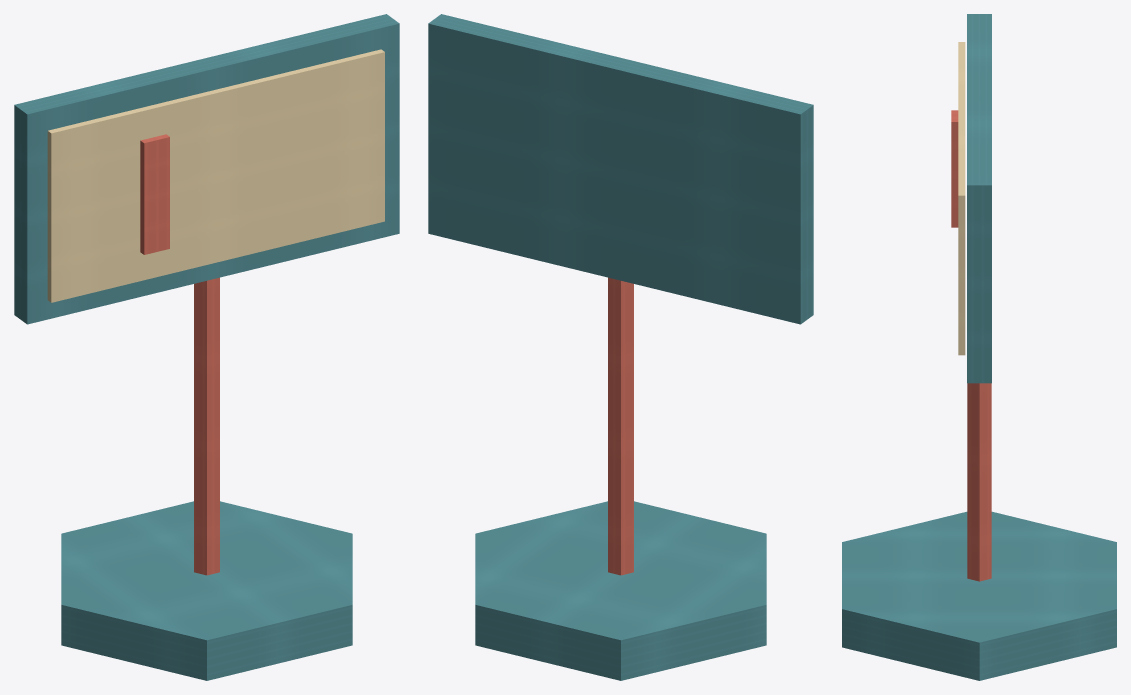
File: atlas100-s071-a11.lod2.glb
3 views of the same model, side by side, from view 1: azimuth 30°, elevation 25°; view 2: azimuth 150°, elevation 25°; view 3: azimuth 270°, elevation 25° (orthographic). The views are drawn at different scales.
Visible parts, largest first — view 1: atlas100-s071-a11:part-003, atlas100-s071-a11:part-000, atlas100-s071-a11:part-002, atlas100-s071-a11:part-001, atlas100-s071-a11:part-004; view 2: atlas100-s071-a11:part-002, atlas100-s071-a11:part-000, atlas100-s071-a11:part-001; view 3: atlas100-s071-a11:part-000, atlas100-s071-a11:part-002, atlas100-s071-a11:part-001, atlas100-s071-a11:part-003, atlas100-s071-a11:part-004.
Part boxes in pixels (x1=…): atlas100-s071-a11:part-003: x1=47, y1=49, x2=384, y2=302; atlas100-s071-a11:part-000: x1=61, y1=501, x2=352, y2=680; atlas100-s071-a11:part-002: x1=14, y1=14, x2=399, y2=324; atlas100-s071-a11:part-001: x1=194, y1=277, x2=219, y2=575; atlas100-s071-a11:part-004: x1=140, y1=134, x2=169, y2=254; atlas100-s071-a11:part-002: x1=428, y1=14, x2=813, y2=324; atlas100-s071-a11:part-000: x1=475, y1=501, x2=766, y2=680; atlas100-s071-a11:part-001: x1=608, y1=277, x2=633, y2=575; atlas100-s071-a11:part-000: x1=842, y1=511, x2=1116, y2=680; atlas100-s071-a11:part-002: x1=967, y1=14, x2=991, y2=383; atlas100-s071-a11:part-001: x1=967, y1=383, x2=991, y2=581; atlas100-s071-a11:part-003: x1=958, y1=42, x2=965, y2=355; atlas100-s071-a11:part-004: x1=951, y1=110, x2=958, y2=227.
Bounding box in the file's own units: 1.15 × 1.61 × 0.7794.
Materials: 3 (3 with a texture image).
